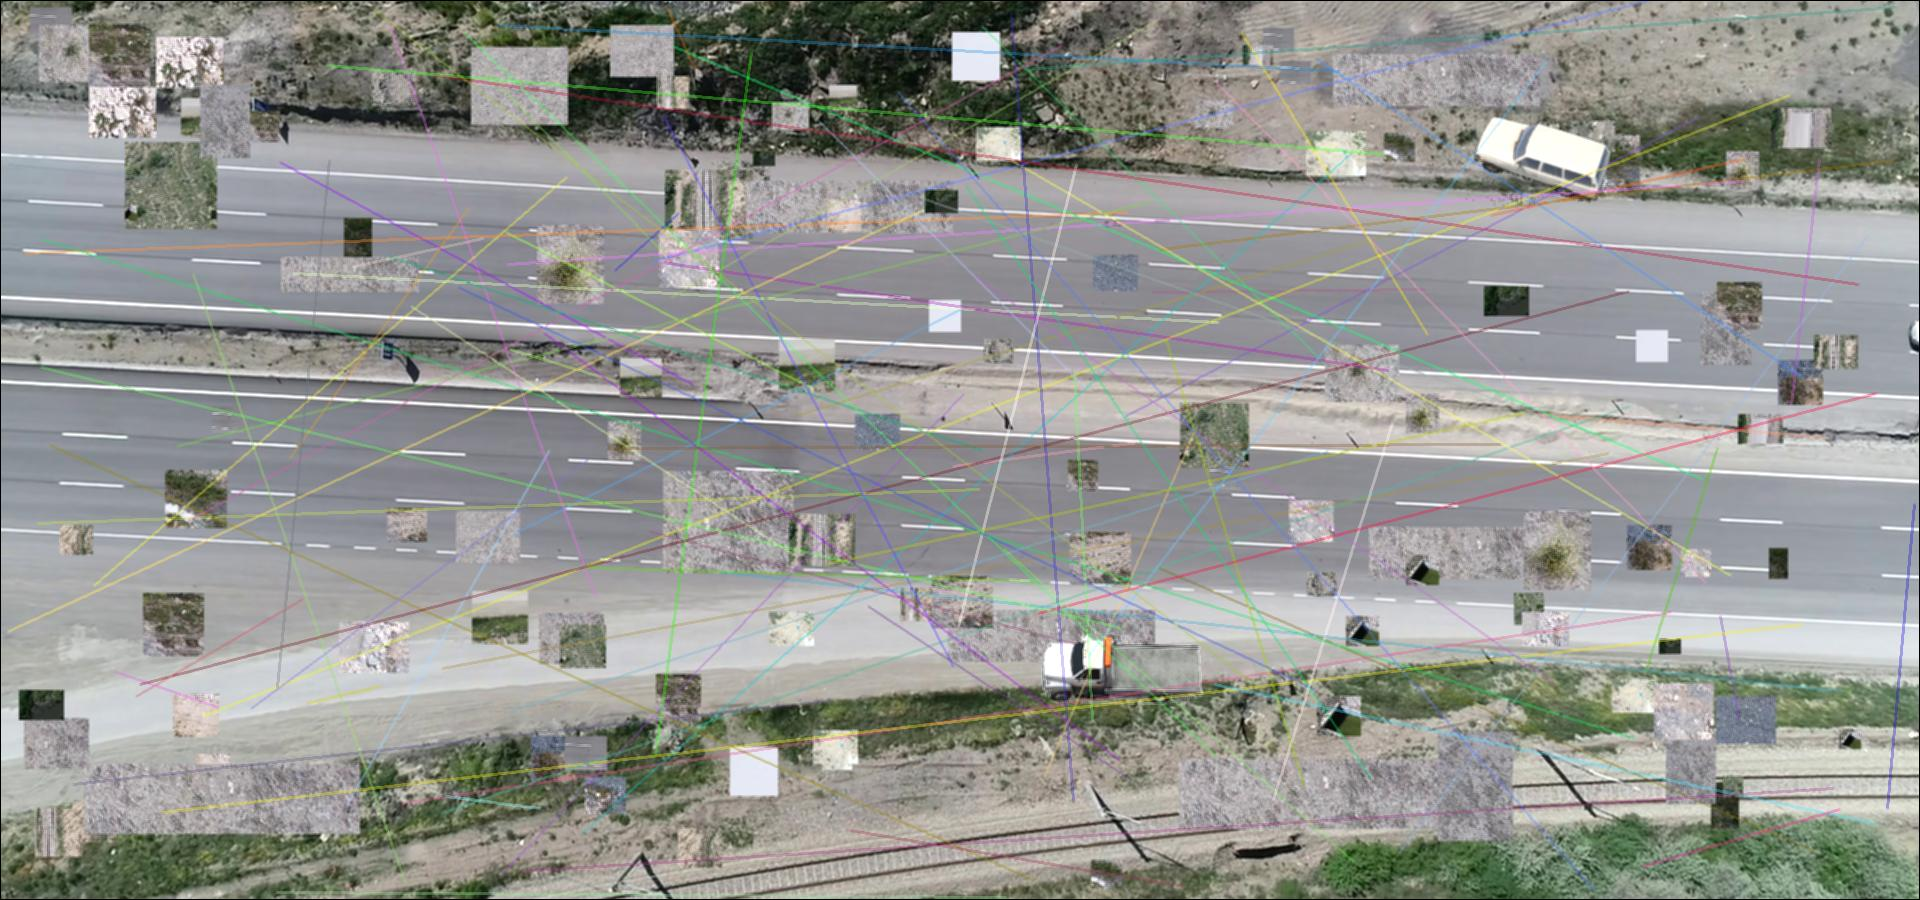arac: (1464, 113, 1611, 206), (1042, 629, 1204, 704)
